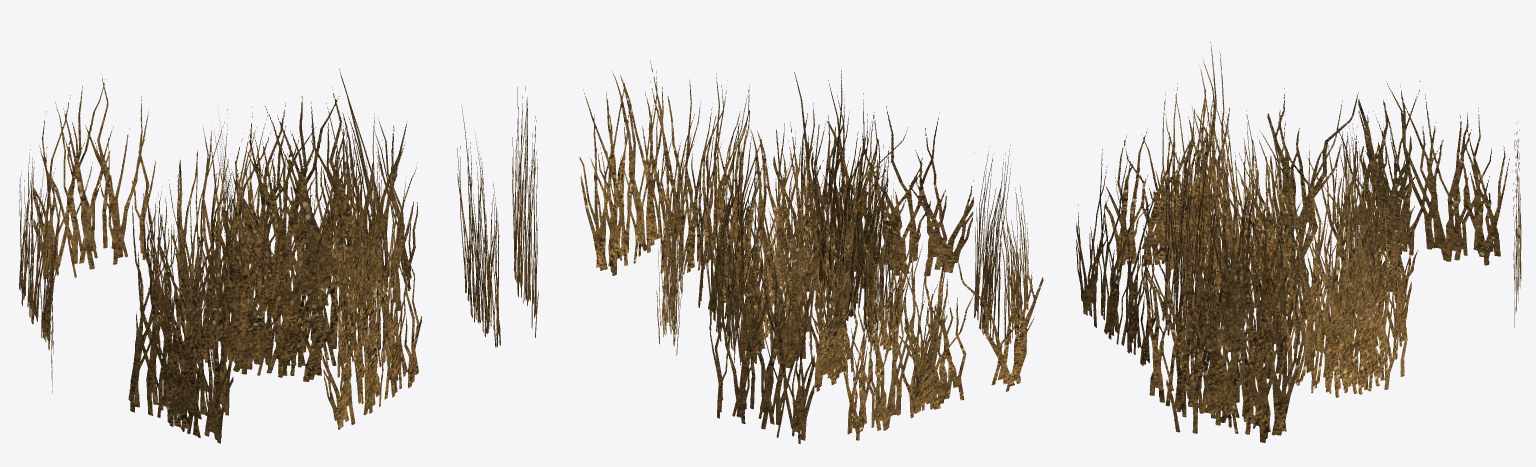
The model's file is grass_3d_05_golden_beige.glb.
3 renders of one model, left to right at view 1: azimuth 30°, elevation 25°; view 2: azimuth 150°, elevation 25°; view 3: azimuth 270°, elevation 25°, orthographic. The views are drawn at different scales.
Parts seen in each view (by area): view 1: grass_cards; view 2: grass_cards; view 3: grass_cards.
Part boxes in pixels (x1,y1,x2,y2): grass_cards: (19, 69, 538, 443); grass_cards: (579, 60, 1043, 443); grass_cards: (1076, 41, 1521, 442).
Bounding box in the file's own units: 1.16 × 0.608 × 0.947.
Materials: 1 (1 with a texture image).
